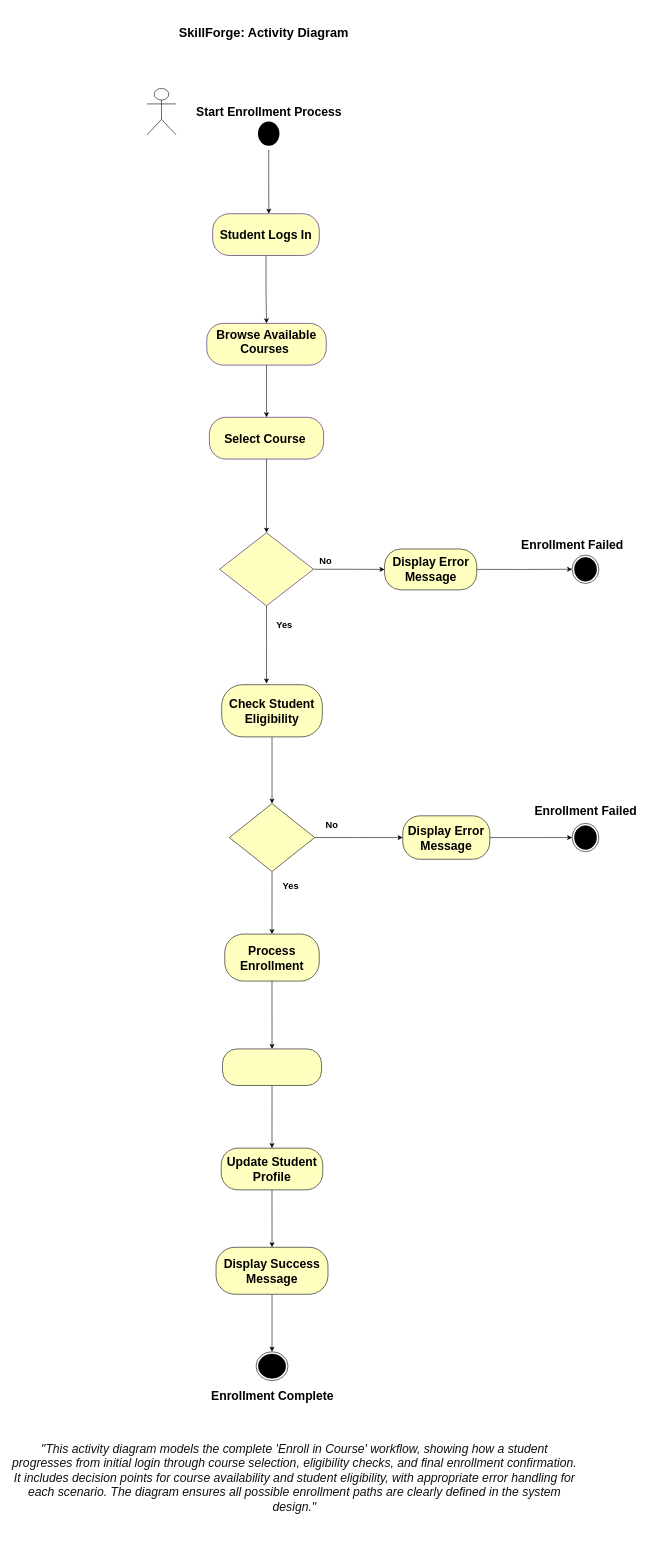
Some shapes in this 646 by 1545 pixel diagram are drawn without their labels. Each missing label, with the centre of its shape:
"Add Student To Course" belongs at (272,1066).
"Course Available?" belongs at (266,569).
"Student" belongs at (161,111).
"Student Eligible ?" belongs at (272,837).
